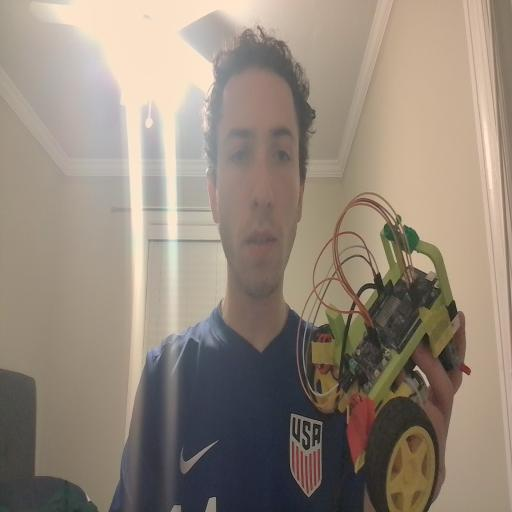green LEGO minifig: (383, 213, 421, 257)
